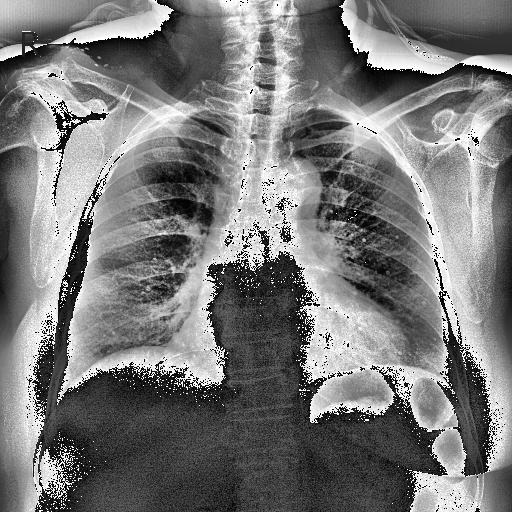0- Aortic enlargement: (262, 152, 318, 232), (259, 154, 320, 222), (264, 156, 322, 214)
3- Cardiomegaly: (170, 312, 410, 392), (167, 308, 412, 370), (172, 322, 404, 368)
